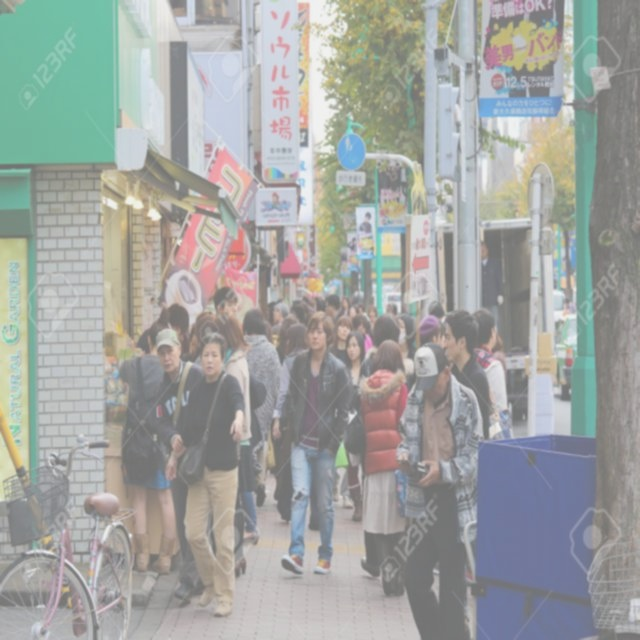pessoa: (392, 338, 490, 639), (163, 327, 247, 620), (274, 310, 350, 574), (150, 328, 213, 604), (352, 336, 418, 598), (118, 306, 177, 576), (342, 312, 418, 507), (211, 304, 261, 549), (271, 323, 321, 532), (479, 0, 569, 106), (241, 306, 283, 510), (342, 329, 379, 523), (441, 306, 492, 445), (247, 333, 282, 510), (469, 308, 515, 440), (262, 288, 350, 334), (133, 300, 190, 357), (417, 290, 454, 370), (176, 309, 217, 368), (480, 240, 504, 336), (397, 311, 419, 396), (376, 156, 411, 208), (349, 292, 377, 354), (326, 315, 354, 367), (274, 314, 300, 366), (490, 332, 509, 386), (212, 284, 239, 318), (356, 209, 374, 254), (338, 235, 356, 263), (143, 294, 156, 331), (383, 298, 401, 320), (562, 294, 577, 318)
